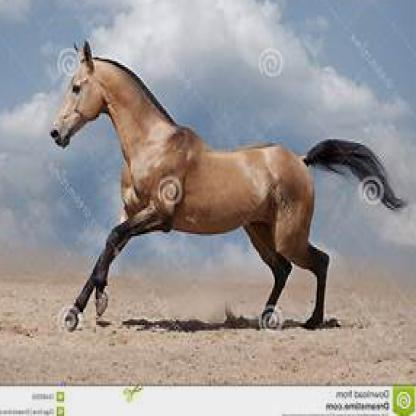horse: (49, 41, 408, 329)
